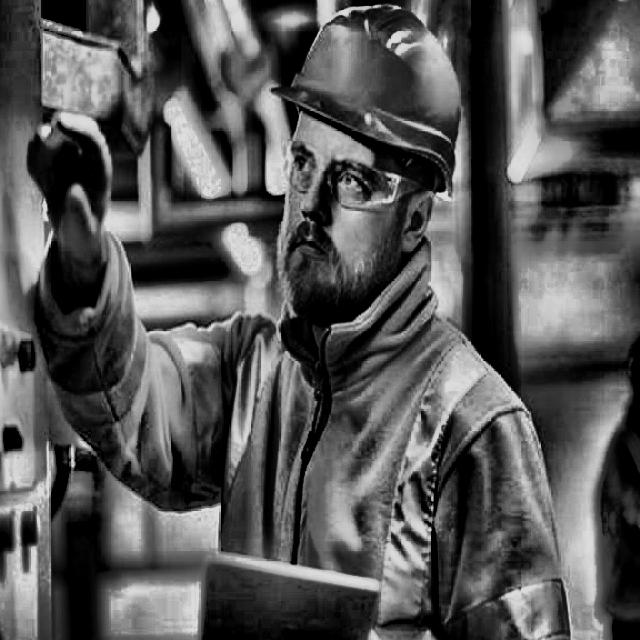Helmet: (260, 0, 473, 340)
